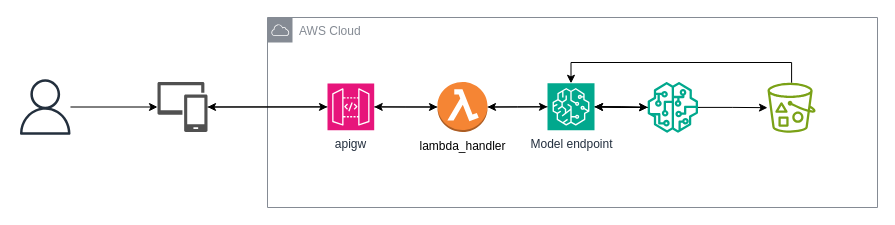
Image size: 895x225. Some labels were removed from this diagram. Each missing label, with the box of its shape:
Model Artifacts Bucket: (767, 82, 815, 132)
XGBoost Model: (647, 82, 698, 132)
